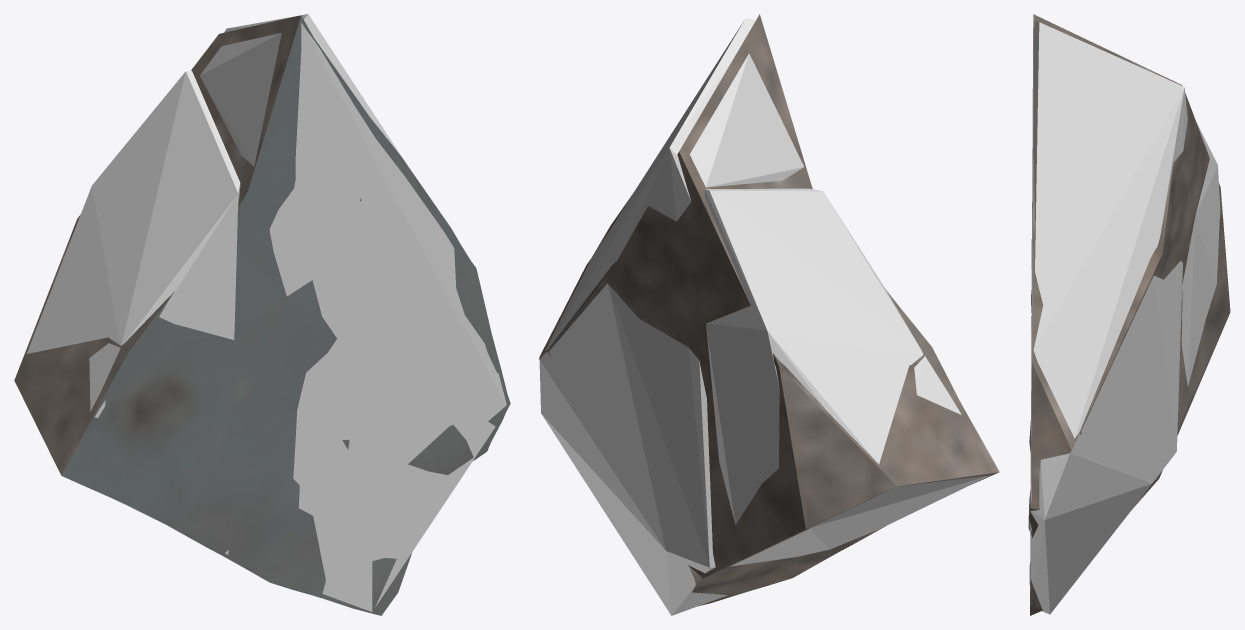
The model's file is SM_Rock_20.fbx.
The picture shows the model from 3 angles, left to right: view 1: azimuth 30°, elevation 25°; view 2: azimuth 150°, elevation 25°; view 3: azimuth 270°, elevation 25°; orthographic projection. The views are drawn at different scales.
Parts seen in each view (by area): view 1: SM_Rock_20_ConvexHulls, SM_Rock_20_LOD0; view 2: SM_Rock_20_ConvexHulls, SM_Rock_20_LOD0; view 3: SM_Rock_20_ConvexHulls, SM_Rock_20_LOD0.
Part boxes in pixels (left/top/right/bottom): SM_Rock_20_ConvexHulls: left=26, top=14, right=506, bottom=611; SM_Rock_20_LOD0: left=14, top=15, right=510, bottom=615; SM_Rock_20_ConvexHulls: left=539, top=17, right=990, bottom=615; SM_Rock_20_LOD0: left=539, top=14, right=999, bottom=606; SM_Rock_20_ConvexHulls: left=1030, top=21, right=1220, bottom=614; SM_Rock_20_LOD0: left=1028, top=14, right=1230, bottom=615.
Bounding box in the file's own units: 25.75 × 10.84 × 33.56.
